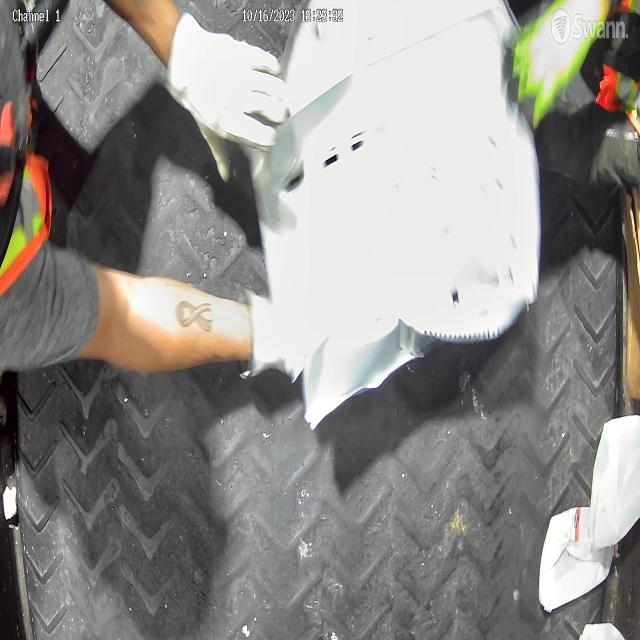milk_jug: (538, 506, 620, 614), (589, 412, 640, 548)
